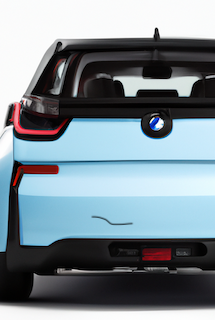scratch: (88, 215, 133, 229)
